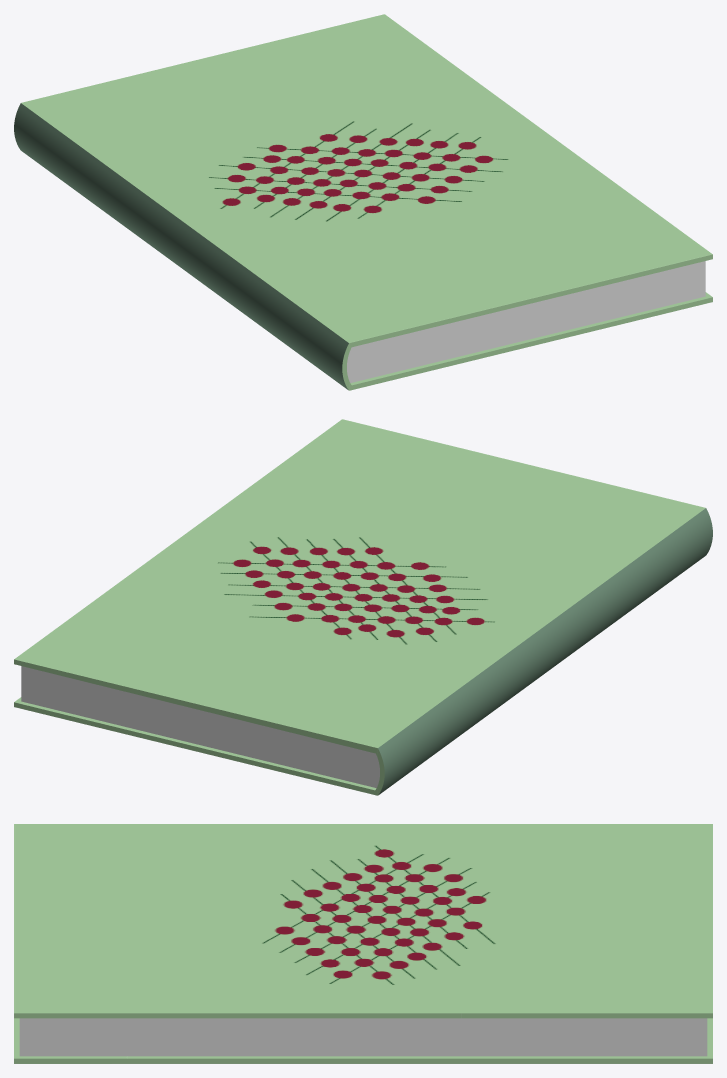
Rendered from garden bookm.fbx.
3 views of the same model, one above another, from view 1: azimuth 30°, elevation 25°; view 2: azimuth 150°, elevation 25°; view 3: azimuth 270°, elevation 25° (orthographic). The views are drawn at different scales.
Parts seen in each view (by area): view 1: book_shape:polySurface1; view 2: book_shape:polySurface1; view 3: book_shape:polySurface1.
Boxes of the visible parts, bbox=[...] form: book_shape:polySurface1: bbox=[14, 14, 712, 390]; book_shape:polySurface1: bbox=[14, 419, 712, 795]; book_shape:polySurface1: bbox=[14, 824, 712, 1063].
Size of the model in its own units: 16.3 by 2 by 25.
Materials: 3 (1 with a texture image).
